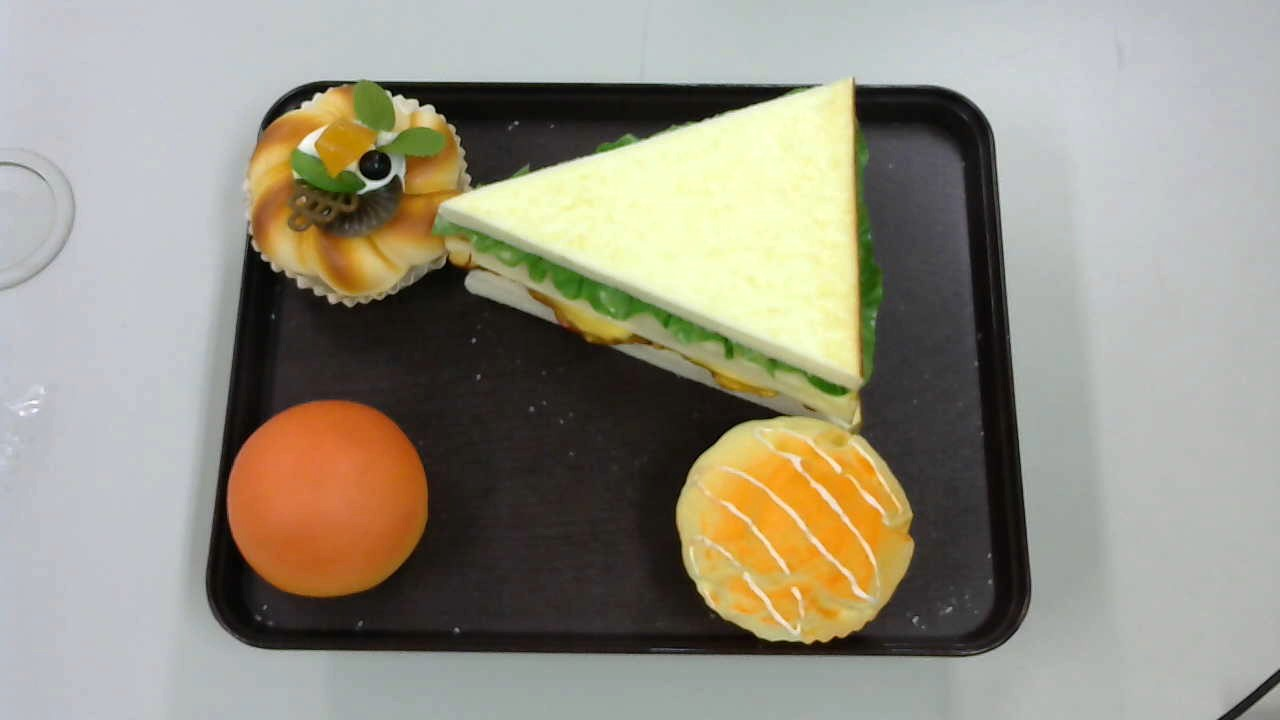bun: (227, 400, 430, 597)
cupcake: (676, 416, 915, 643)
fruit tart: (244, 80, 475, 307)
sandwich: (436, 77, 884, 437)
